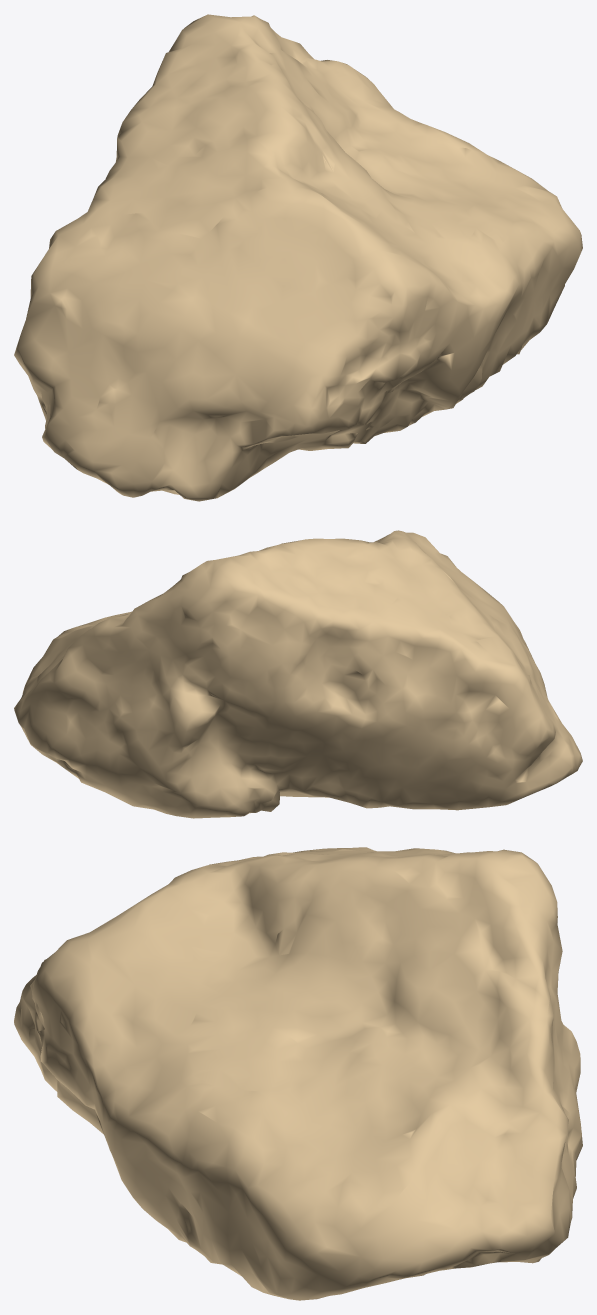
Rendered from moon-rock.glb.
The picture shows the model from 3 angles, top to bottom: view 1: azimuth 30°, elevation 25°; view 2: azimuth 150°, elevation 25°; view 3: azimuth 270°, elevation 25°; orthographic projection. The views are drawn at different scales.
Visible parts, largest first — view 1: moon_rock_03; view 2: moon_rock_03; view 3: moon_rock_03.
Boxes of the visible parts, bbox=[...] form: moon_rock_03: bbox=[14, 14, 582, 501]; moon_rock_03: bbox=[14, 530, 582, 818]; moon_rock_03: bbox=[14, 847, 582, 1300].
Size of the model in its own units: 1.82 by 0.9457 by 1.4.
